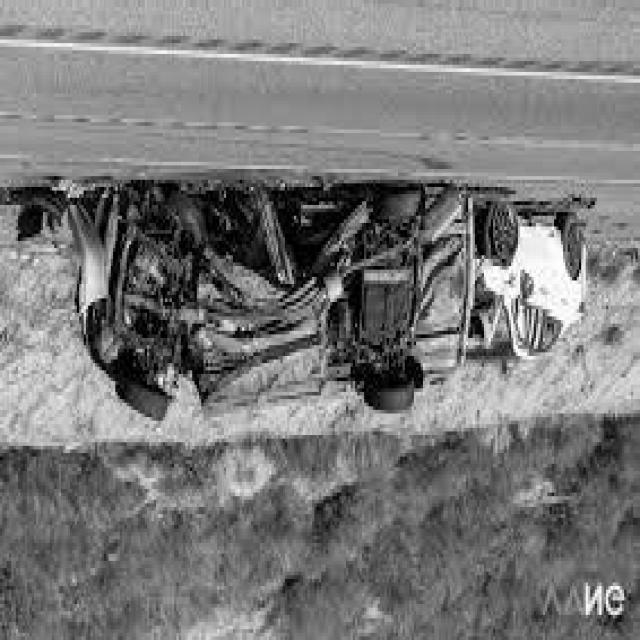severe: (62, 163, 481, 437)
